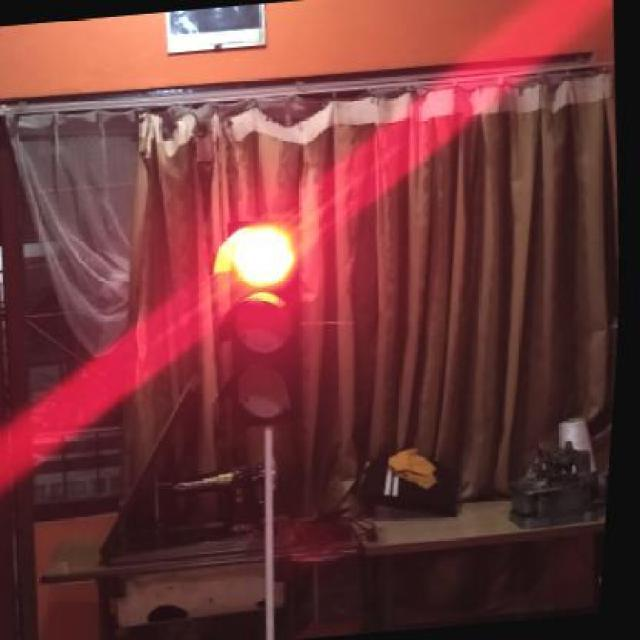red_light: (224, 224, 296, 427)
